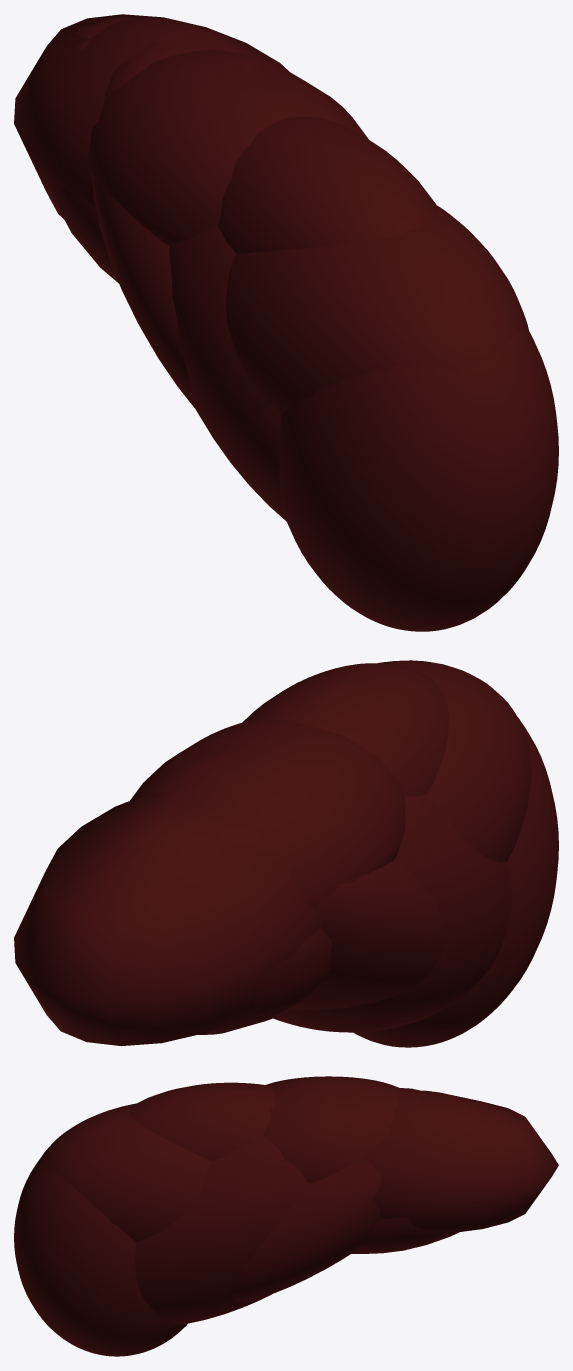
Rendered from Leber.fbx.
3 views of the same model, one above another, from view 1: azimuth 30°, elevation 25°; view 2: azimuth 150°, elevation 25°; view 3: azimuth 270°, elevation 25° (orthographic). The views are drawn at different scales.
Parts seen in each view (by area): view 1: polySurface13, polySurface12, polySurface10, polySurface11, polySurface9, polySurface14, polySurface8, polySurface15; view 2: polySurface9, polySurface10, polySurface14, polySurface8, polySurface12, polySurface11, polySurface13, polySurface15; view 3: polySurface9, polySurface13, polySurface14, polySurface12, polySurface8, polySurface10, polySurface11, polySurface15.
Boxes of the visible parts, box(x1,y1,x2,y2) form: polySurface13: box(279, 328, 558, 631); polySurface12: box(226, 205, 528, 414); polySurface10: box(88, 49, 368, 246); polySurface11: box(218, 116, 437, 253); polySurface9: box(14, 14, 289, 218); polySurface14: box(169, 226, 286, 521); polySurface8: box(92, 38, 218, 408); polySurface15: box(43, 17, 135, 283); polySurface9: box(14, 792, 325, 1046); polySurface10: box(130, 719, 405, 907); polySurface14: box(273, 794, 511, 1032); polySurface8: box(131, 796, 445, 1010); polySurface12: box(378, 660, 531, 862); polySurface11: box(242, 663, 449, 796); polySurface13: box(353, 717, 558, 1047); polySurface15: box(95, 868, 331, 1034); polySurface9: box(364, 1090, 558, 1234); polySurface13: box(14, 1158, 187, 1356); polySurface14: box(135, 1136, 308, 1324); polySurface12: box(39, 1103, 210, 1242); polySurface8: box(229, 1088, 427, 1301); polySurface10: box(263, 1076, 401, 1183); polySurface11: box(129, 1082, 274, 1161); polySurface15: box(351, 1099, 514, 1253).
Size of the model in its own units: 5.4 by 8 by 14.98.
